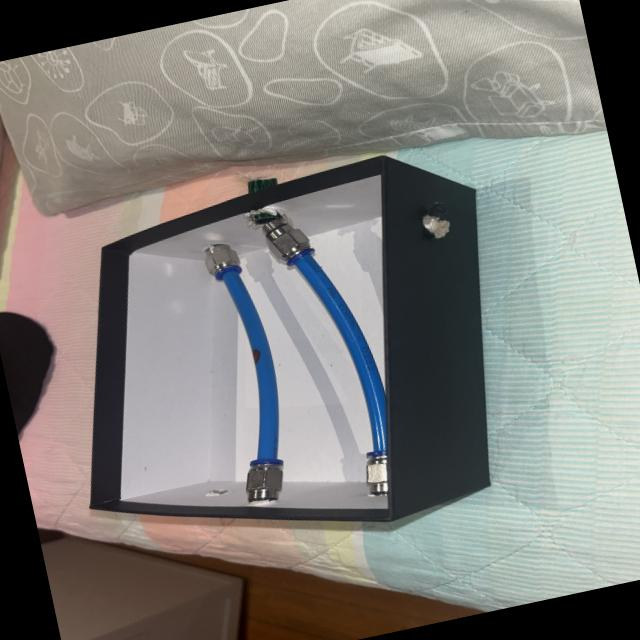hose_damage: (250, 348, 263, 366)
